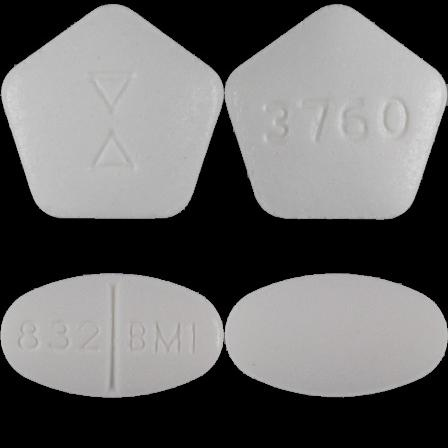52125-321: (0, 0, 224, 224)
